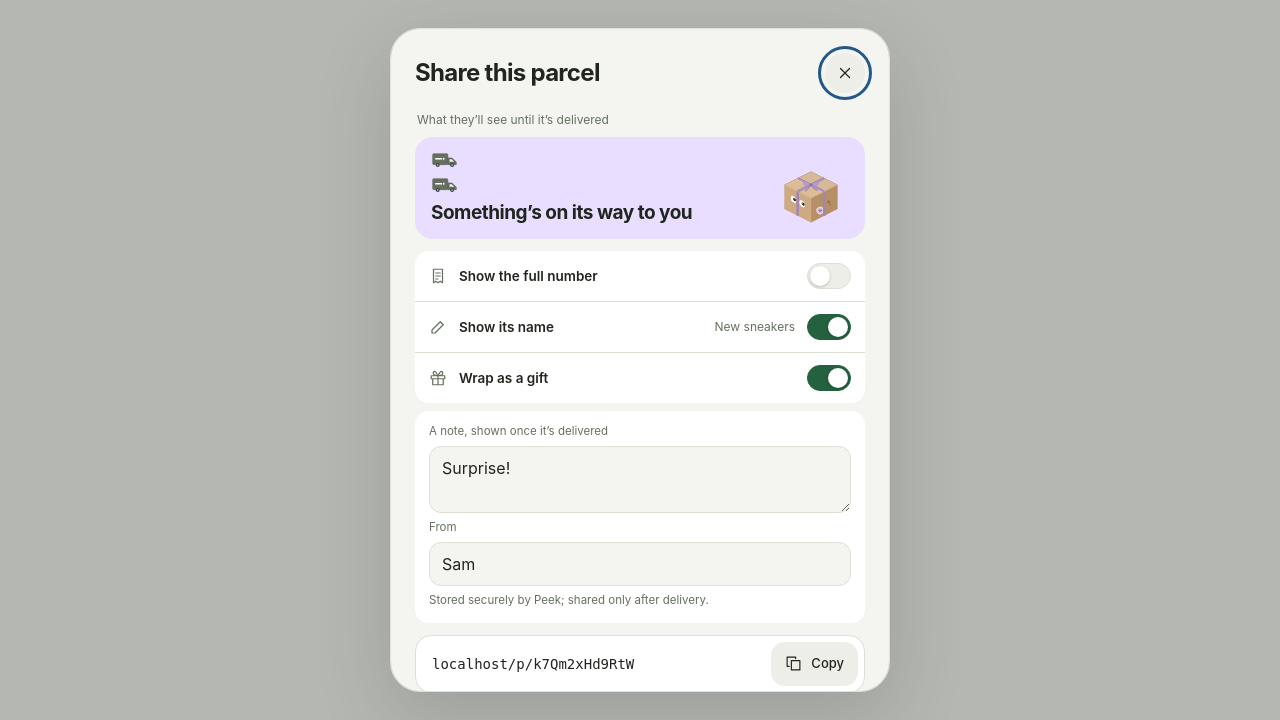
Test: the share sheet of a looked-up parcel › waits for the gift message to be saved before copying, and copies nothing if saving fails
Click the button "Copy": click(815, 664) left=771, top=642, right=858, bottom=686
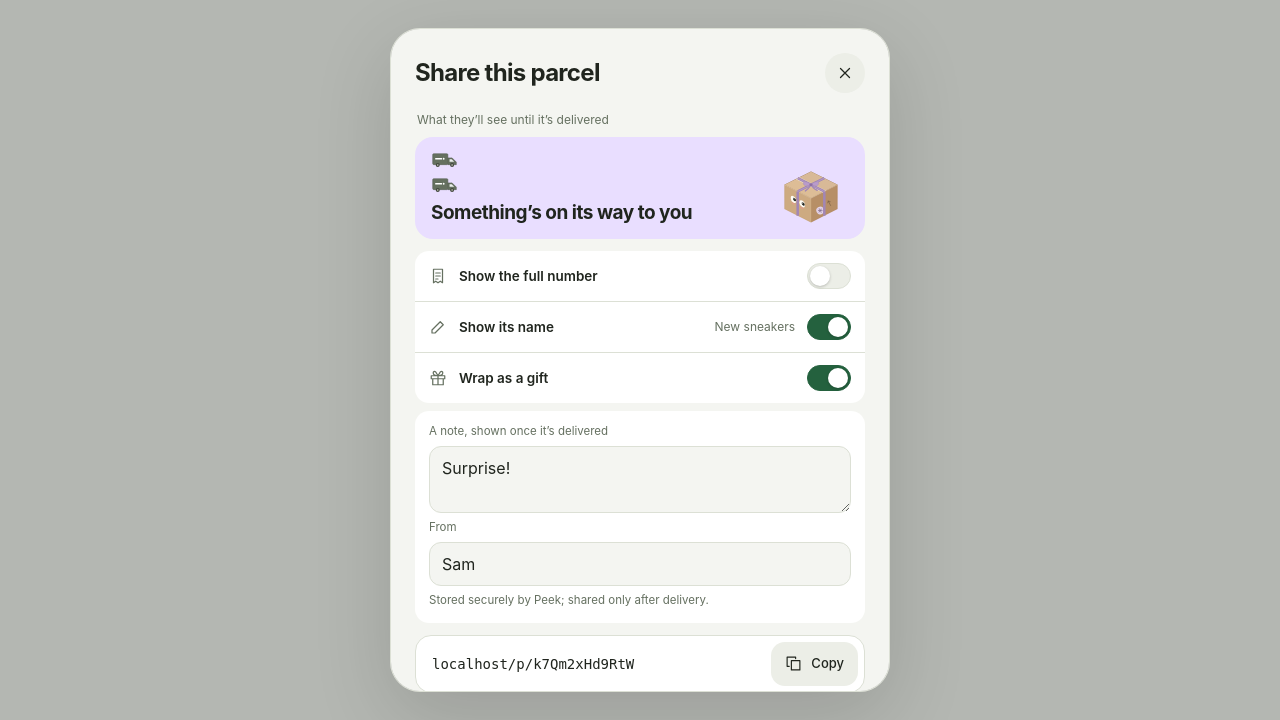
Click the button "Copy": click(815, 664) left=771, top=642, right=858, bottom=686
(page scrolled)
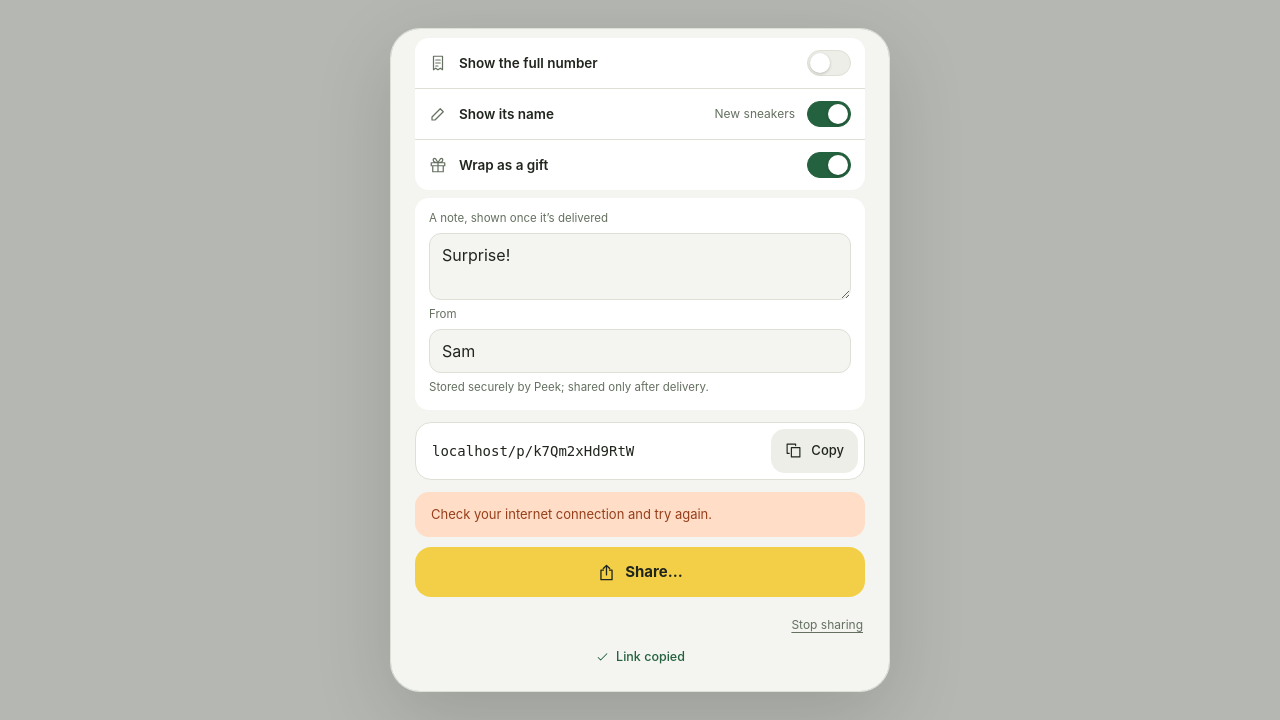
expect the message "Check your internet connection and try again." is shown: met, box left=415, top=492, right=865, bottom=537
